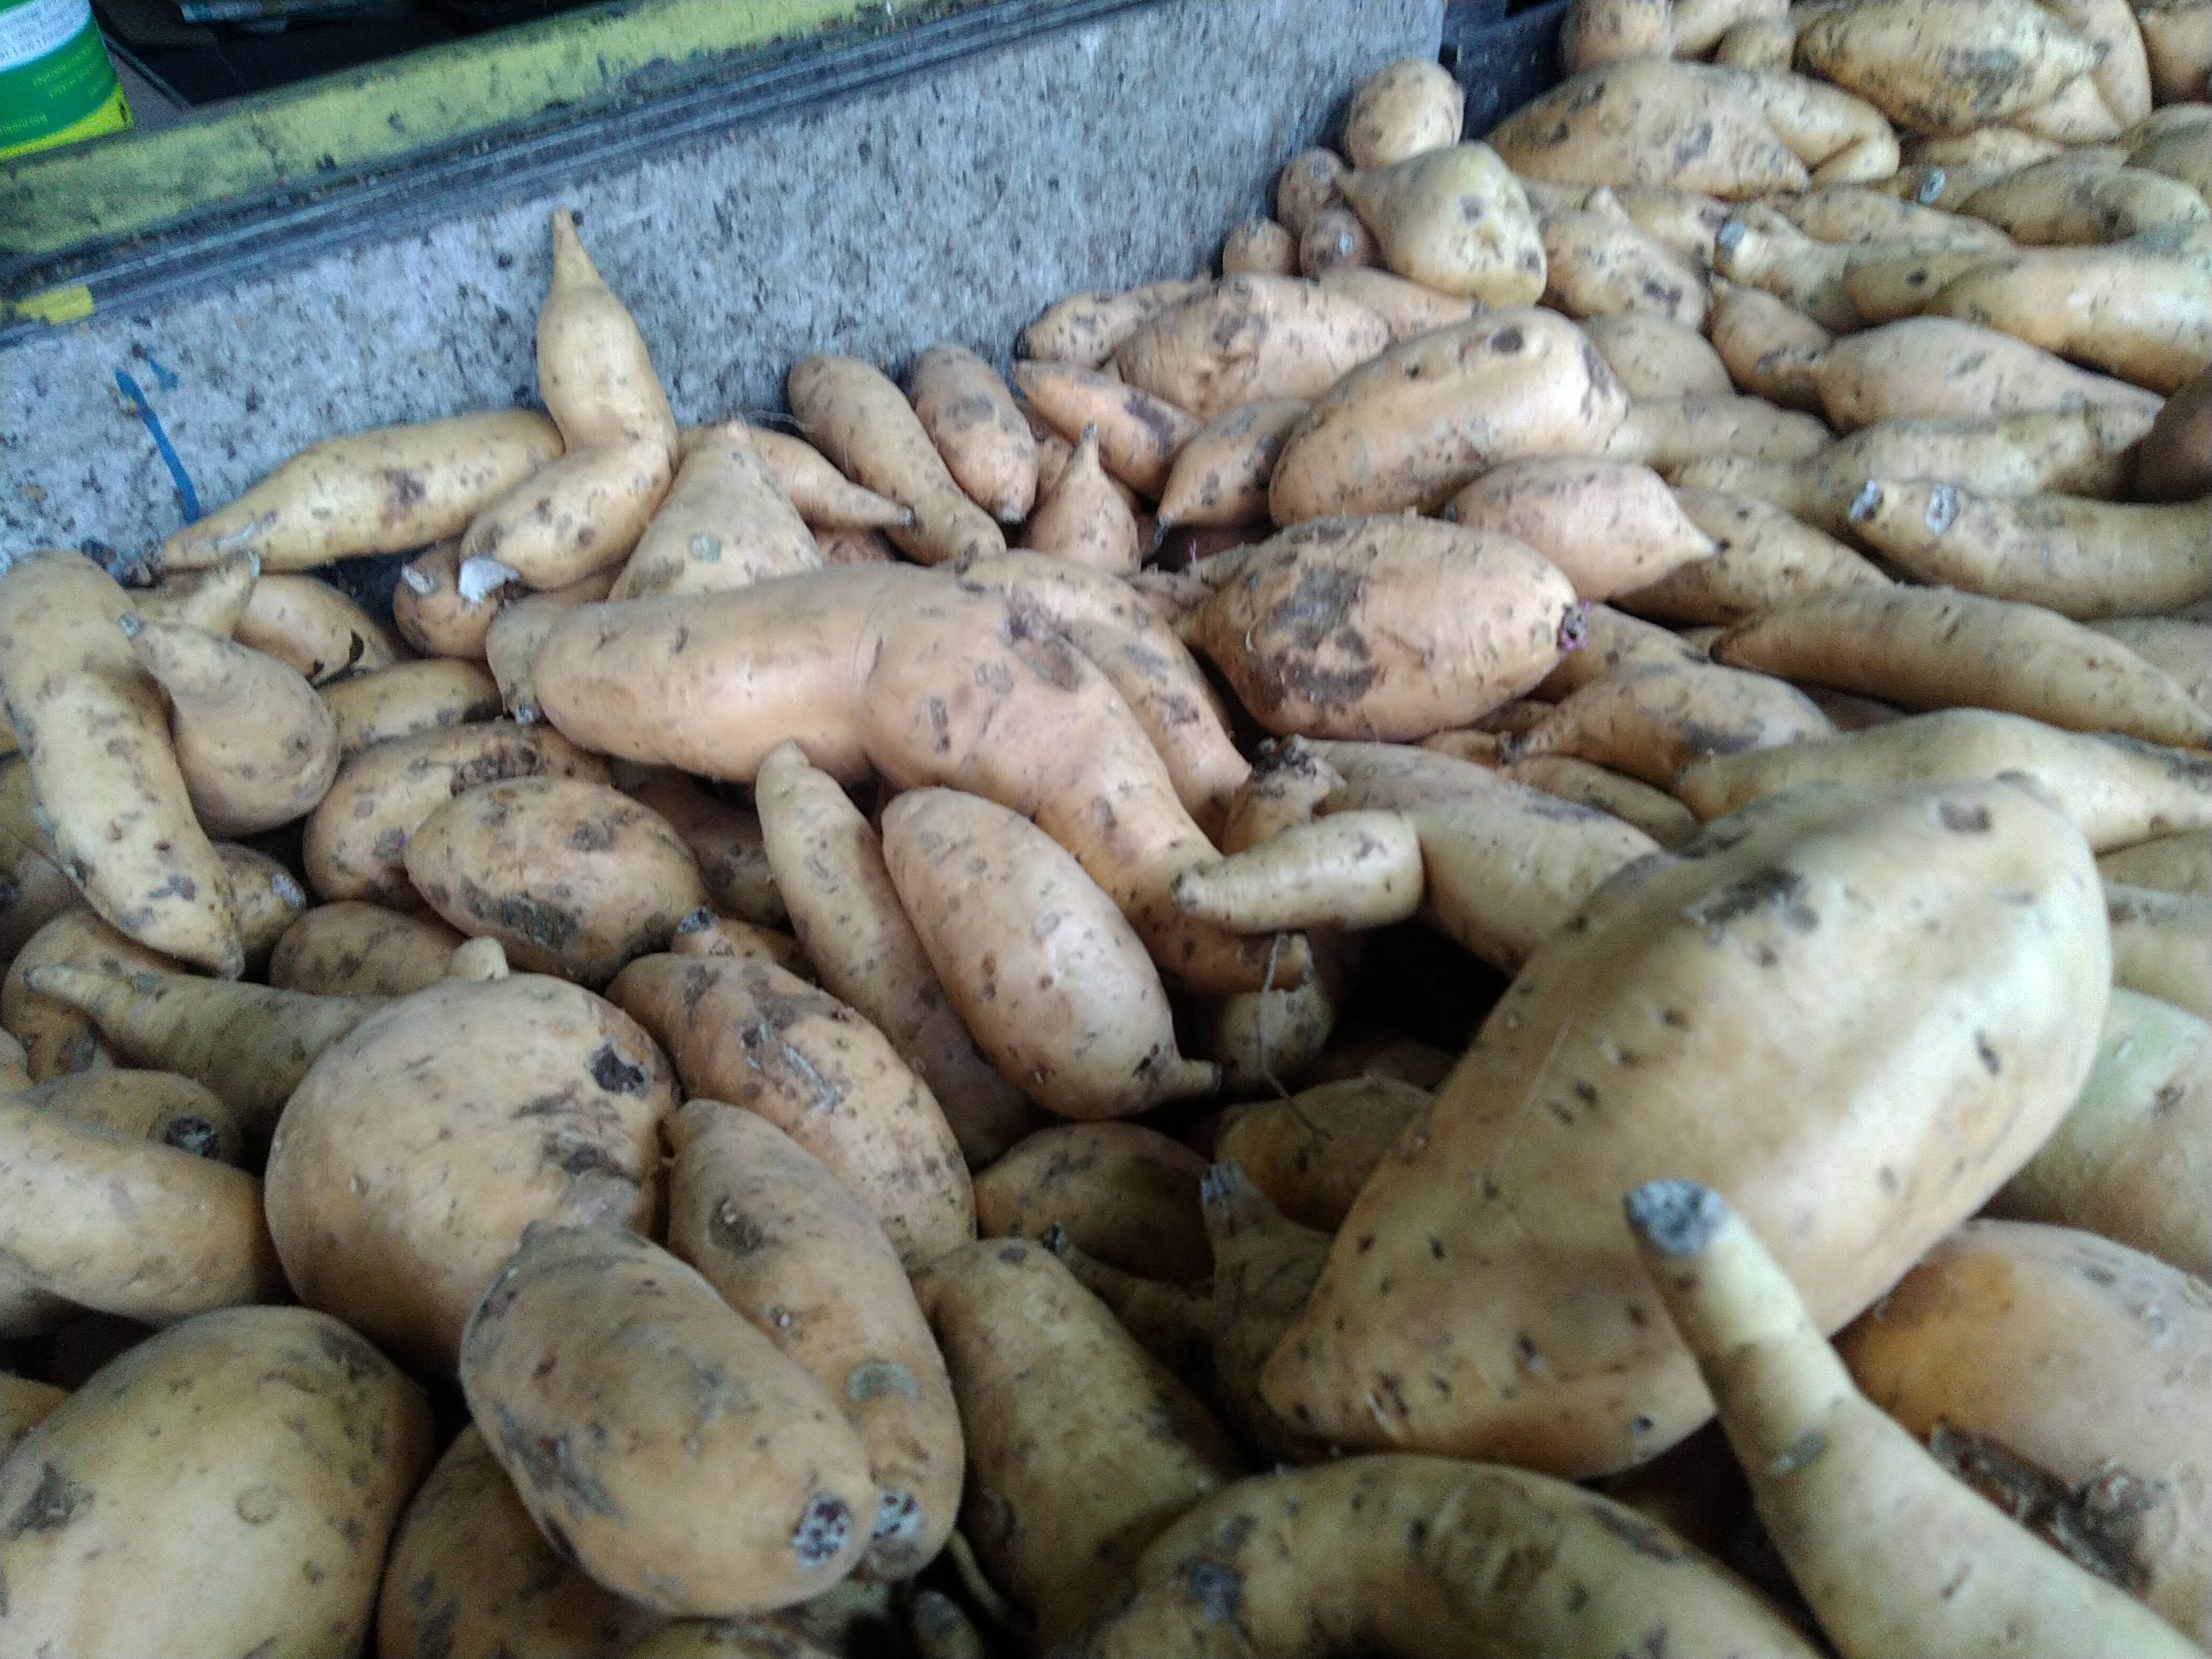ubi cilembu: (28, 207, 2212, 1657), (1238, 741, 2125, 1483), (524, 549, 1325, 993), (1251, 0, 2200, 211), (456, 1206, 895, 1596), (657, 1093, 996, 1596), (0, 1298, 448, 1636), (871, 791, 1263, 1122), (0, 552, 270, 1002), (1172, 509, 1641, 748), (446, 195, 688, 615), (1244, 317, 1646, 551), (1714, 573, 2212, 748), (157, 404, 585, 582), (397, 763, 732, 962), (777, 331, 1045, 572), (1850, 448, 2212, 612), (1320, 141, 1554, 314), (913, 331, 1062, 537)
